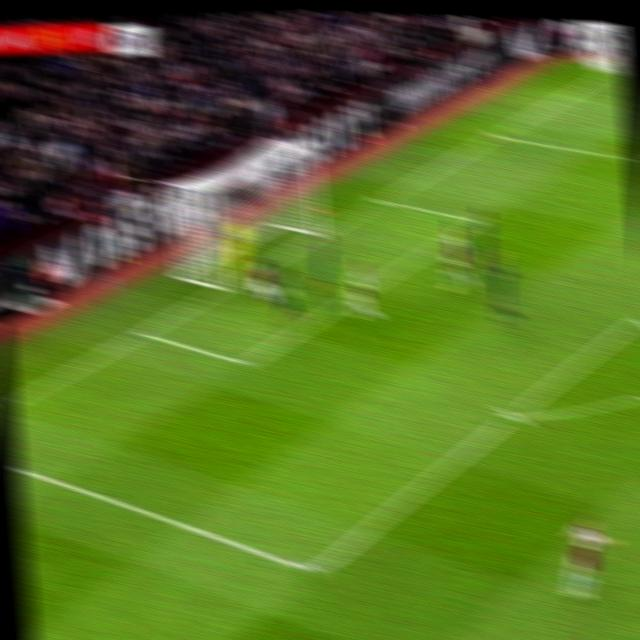bigarea_bottom_inner: (298, 552, 334, 592)
bigarea_top_outter: (483, 122, 508, 143)
bottom_arc_area_intersection: (497, 395, 529, 432)
corner: (600, 60, 623, 75)
smallarea_bottom_inner: (231, 346, 259, 378)
smallarea_bottom_outter: (126, 317, 155, 346)
smallarea_top_inner: (465, 207, 488, 232)
smallarea_top_outter: (367, 188, 392, 211)
